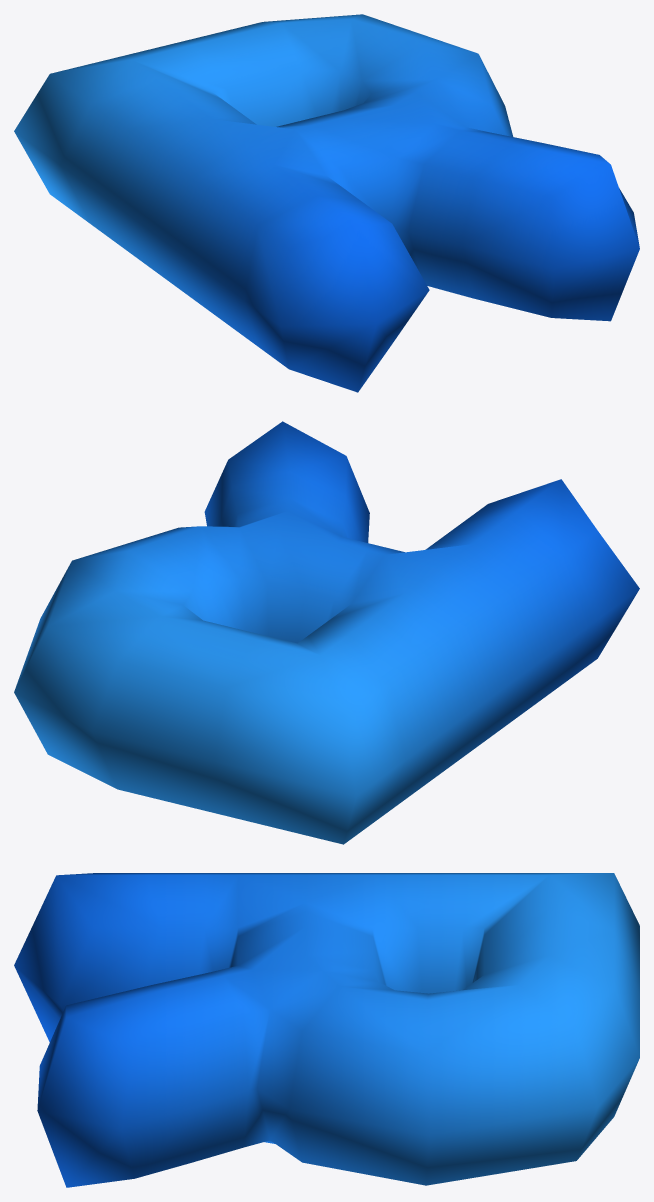
The model's file is CartoonFont_R.FBX.
3 views of the same model, one above another, from view 1: azimuth 30°, elevation 25°; view 2: azimuth 150°, elevation 25°; view 3: azimuth 270°, elevation 25° (orthographic). The views are drawn at different scales.
Visible parts, largest first — view 1: R; view 2: R; view 3: R.
Part boxes in pixels (x1=…): R: x1=14, y1=14, x2=639, y2=392; R: x1=14, y1=421, x2=639, y2=844; R: x1=14, y1=873, x2=639, y2=1187.
Bounding box in the file's own units: 23.49 × 9.49 × 29.7.
1 material, 1 textured.
